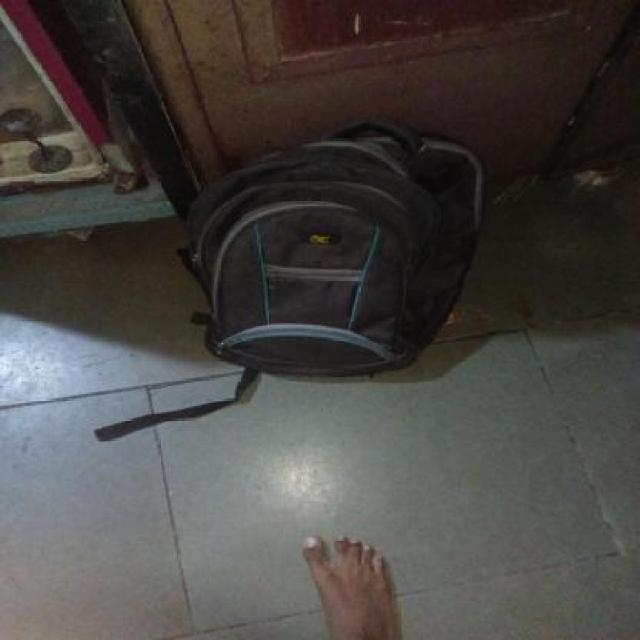backpack: (172, 112, 491, 382)
